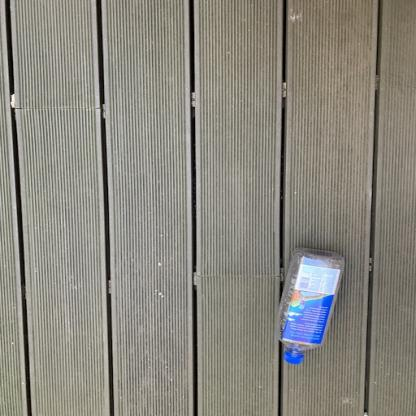trash: (269, 245, 353, 374)
